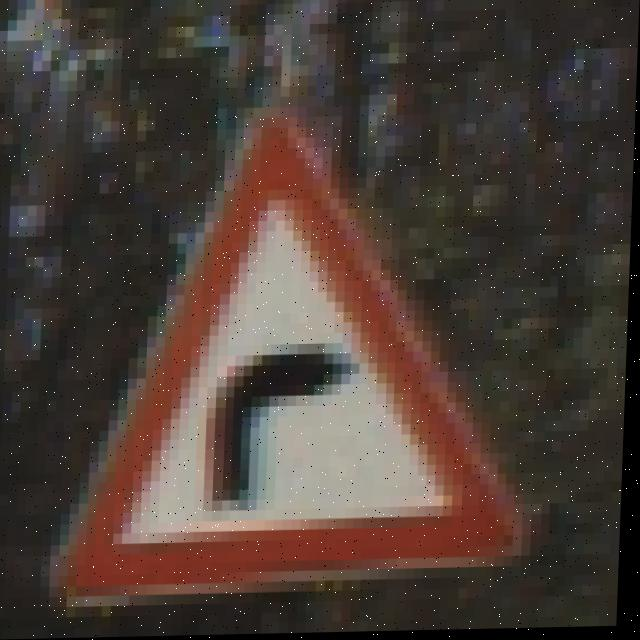right_turn: (57, 103, 541, 598)
